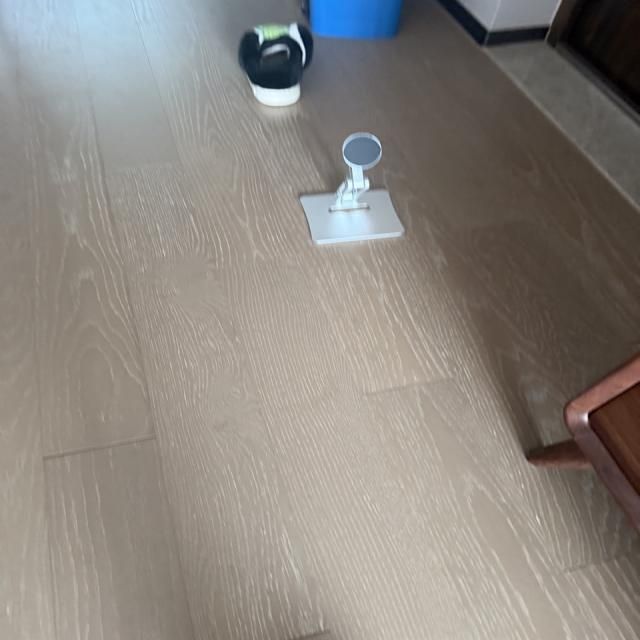phone holder: (286, 131, 416, 253)
